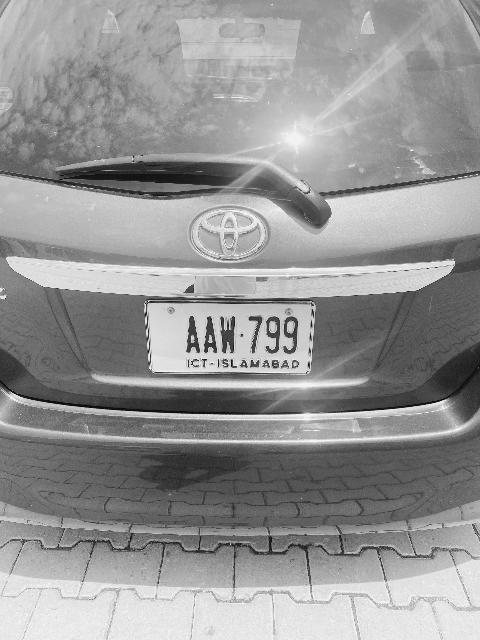Number: (183, 310, 302, 357)
